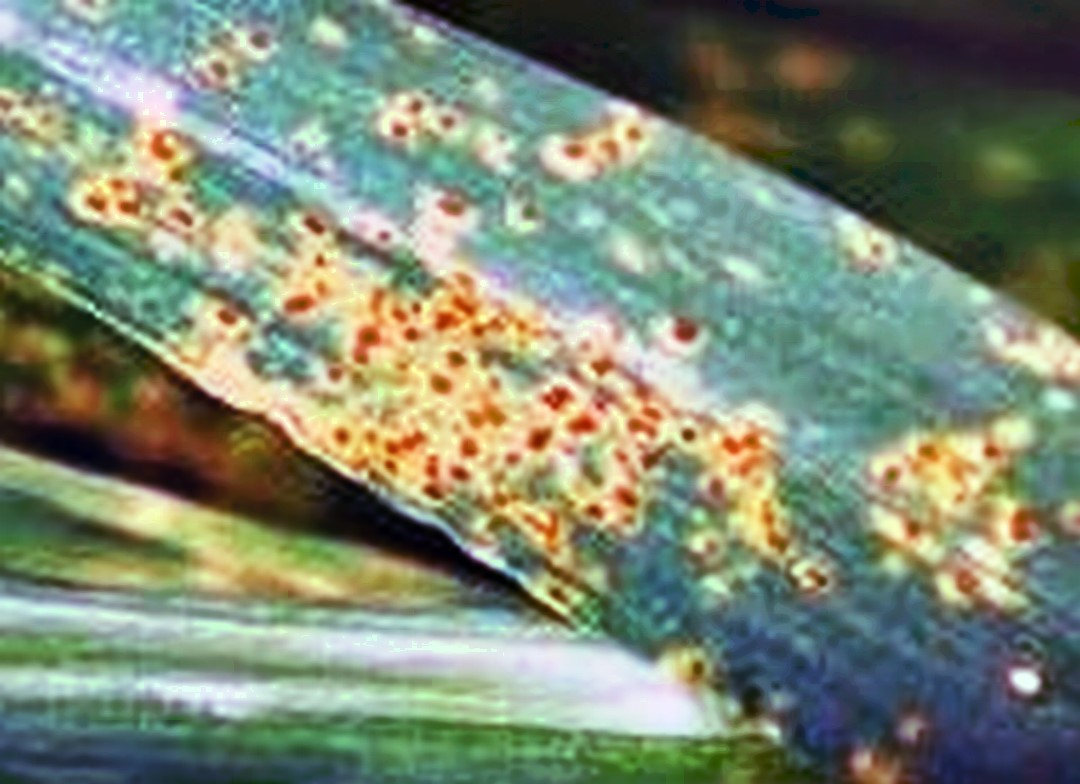Leaf Rust: (86, 74, 877, 610)
